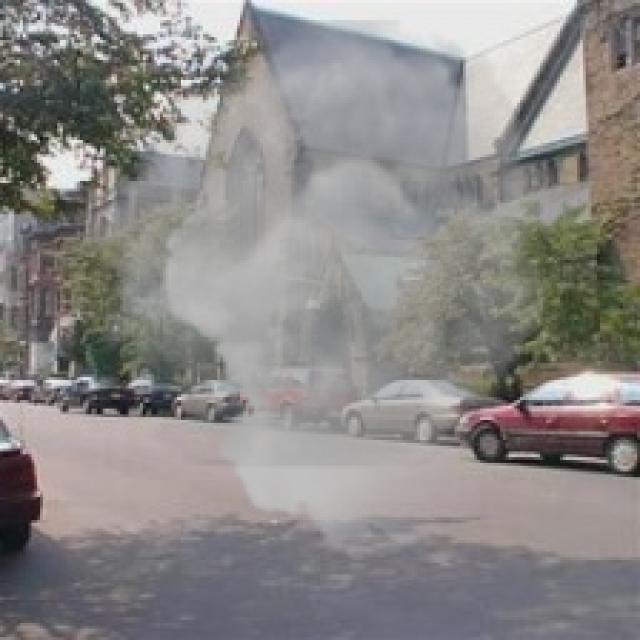smoke: (68, 20, 583, 557)
